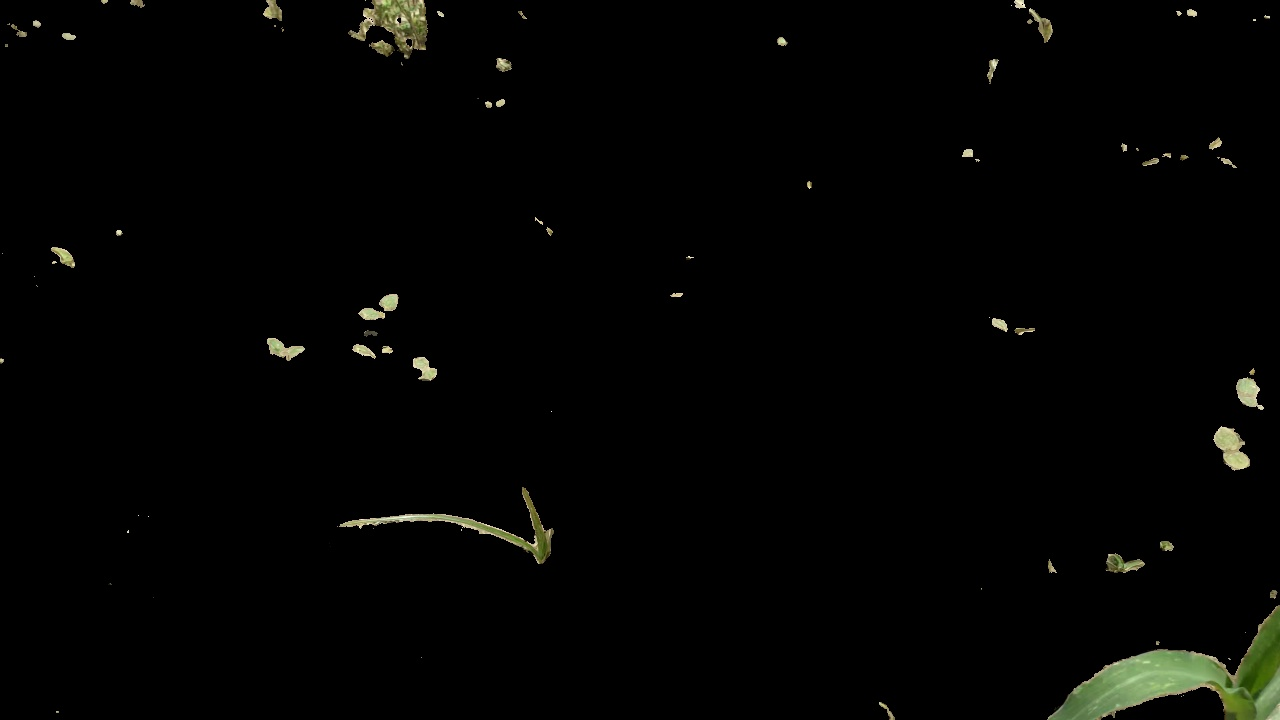crop: (1052, 601, 1280, 720)
weed: (332, 488, 563, 564), (348, 1, 436, 59), (1131, 134, 1245, 177), (986, 307, 1043, 347), (259, 332, 319, 365), (1018, 1, 1056, 47), (352, 289, 406, 321), (1213, 428, 1246, 474), (1232, 369, 1262, 414), (1103, 548, 1146, 578), (409, 352, 446, 384), (251, 1, 293, 27), (48, 237, 79, 272), (352, 338, 393, 362), (482, 92, 512, 119), (982, 57, 1006, 85)
